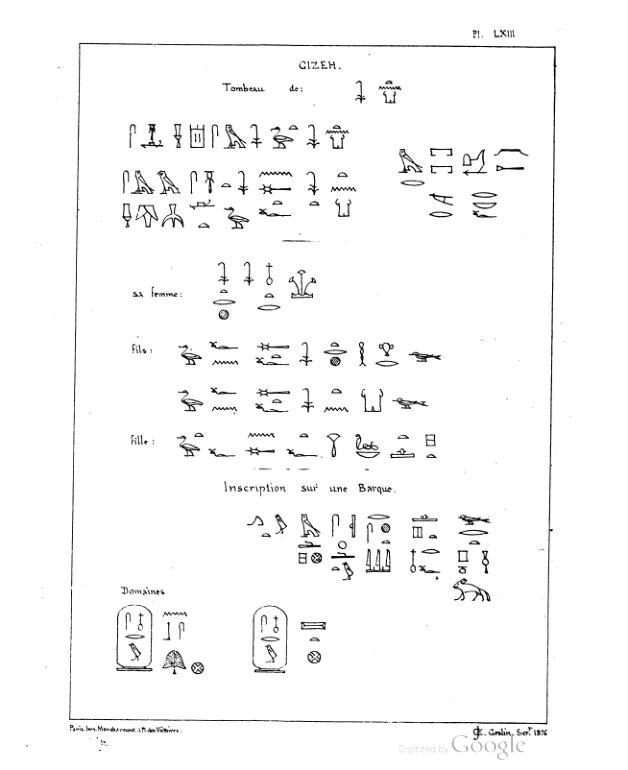circle: (111, 600, 158, 677), (245, 603, 291, 678)
